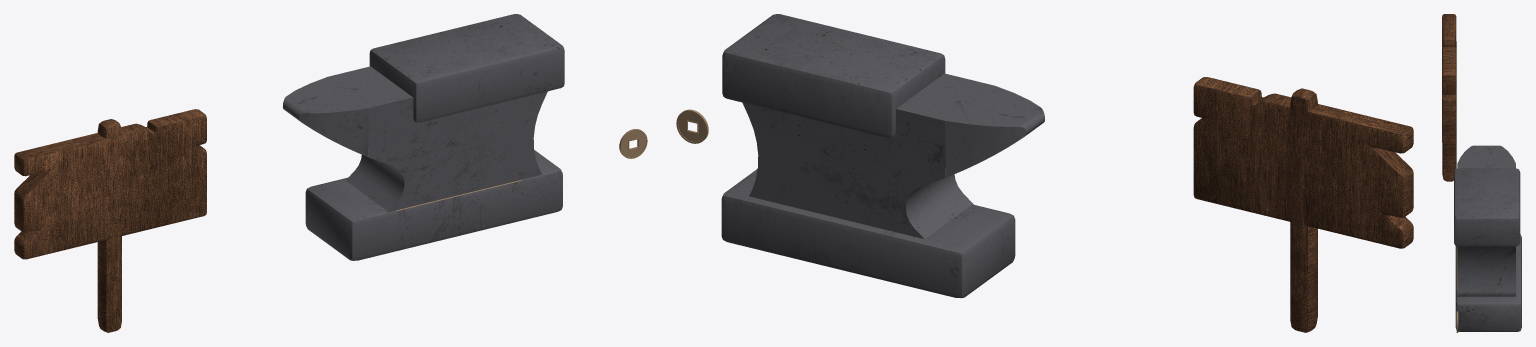
Rendered from 아이템 (돌멩이X) 텍스처.fbx.
The picture shows the model from 3 angles, left to right: view 1: azimuth 30°, elevation 25°; view 2: azimuth 150°, elevation 25°; view 3: azimuth 270°, elevation 25°; orthographic projection. The views are drawn at different scales.
Visible parts, largest first — view 1: Line015, Box001, Circle002; view 2: Line015, Box001, Circle002; view 3: Line015, Box001.
Boxes of the visible parts, x1=… form: Line015: x1=283, y1=14, x2=564, y2=260; Box001: x1=14, y1=109, x2=206, y2=332; Circle002: x1=619, y1=129, x2=647, y2=158; Line015: x1=721, y1=14, x2=1044, y2=298; Box001: x1=1193, y1=77, x2=1413, y2=332; Circle002: x1=676, y1=109, x2=708, y2=143; Line015: x1=1454, y1=145, x2=1521, y2=331; Box001: x1=1442, y1=14, x2=1456, y2=181.
Size of the model in its own units: 276 by 87.17 by 43.54.
Materials: 3 (3 with a texture image).
